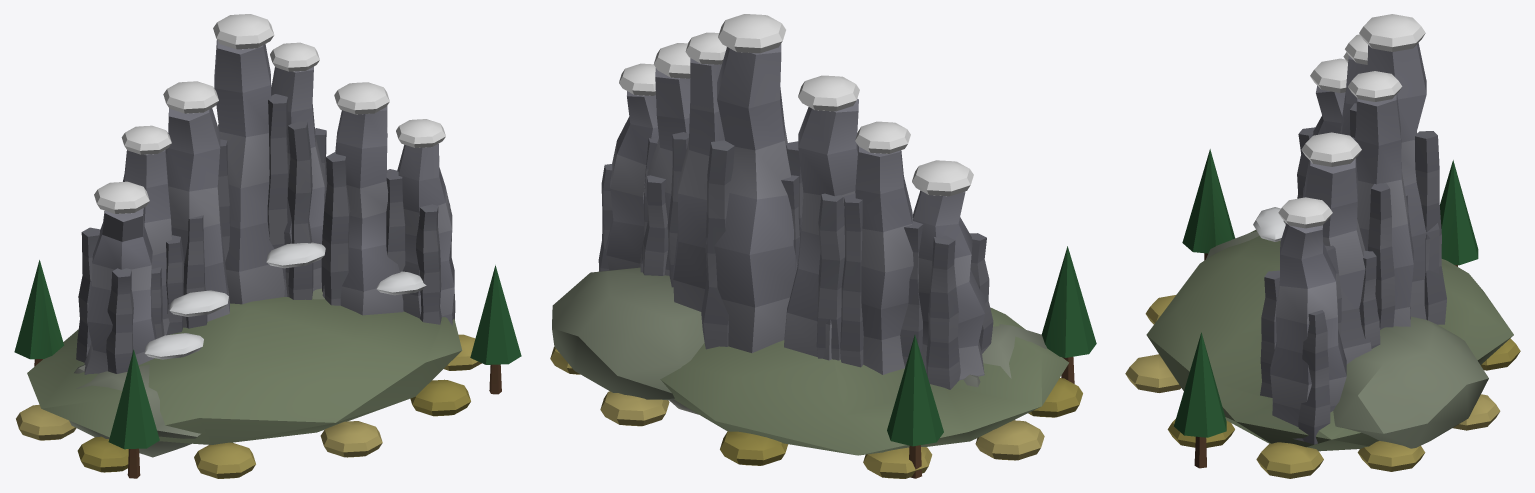
Rendered from lm-s2au-tas.glb.
The picture shows the model from 3 angles, left to right: view 1: azimuth 30°, elevation 25°; view 2: azimuth 150°, elevation 25°; view 3: azimuth 270°, elevation 25°; orthographic projection. The views are drawn at different scales.
Bounding box in the file's own units: 6.07 × 4.79 × 4.56.
